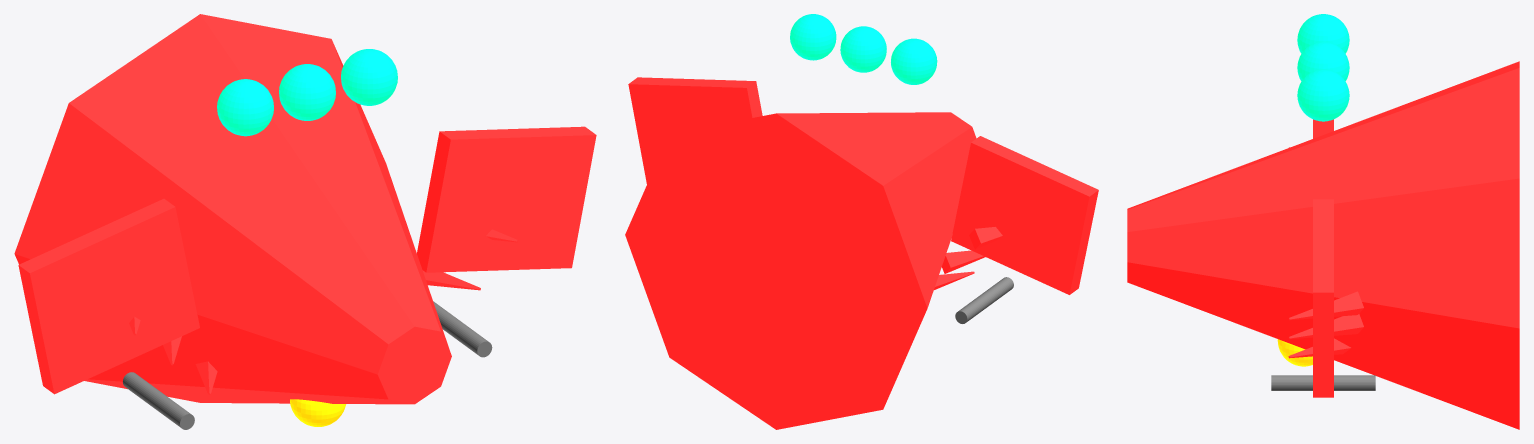
The model's file is boss.glb.
3 views of the same model, side by side, from view 1: azimuth 30°, elevation 25°; view 2: azimuth 150°, elevation 25°; view 3: azimuth 270°, elevation 25° (orthographic). The views are drawn at different scales.
Parts seen in each view (by area): view 1: BossBody, BossWing-1, BossWing1, BossEng-0.5, BossEng0.5, BossEng0, BossGun-1, BossGun1, BossEye, BossSpike11; view 2: BossBody, BossWing-1, BossWing1, BossEng0.5, BossEng0, BossEng-0.5, BossGun-1, BossSpike-11, BossSpike-12; view 3: BossBody, BossWing1, BossEng0.5, BossEng0, BossEng-0.5, BossGun1, BossSpike12, BossSpike11, BossEye.
Part boxes in pixels (x1,y1,x2,y2): BossBody: [14, 14, 451, 404]; BossWing-1: [18, 198, 199, 394]; BossWing1: [417, 126, 596, 272]; BossEng-0.5: [217, 79, 273, 136]; BossEng0.5: [341, 49, 397, 105]; BossEng0: [279, 64, 335, 120]; BossGun-1: [123, 372, 194, 429]; BossGun1: [433, 301, 492, 357]; BossEye: [290, 399, 346, 426]; BossSpike11: [422, 270, 480, 290]; BossBody: [625, 112, 976, 429]; BossWing-1: [951, 136, 1098, 294]; BossWing1: [628, 77, 762, 183]; BossEng0.5: [790, 14, 836, 60]; BossEng0: [840, 26, 886, 72]; BossEng-0.5: [891, 38, 937, 84]; BossGun-1: [955, 277, 1013, 323]; BossSpike-11: [942, 250, 985, 273]; BossSpike-12: [969, 227, 1002, 249]; BossBody: [1127, 61, 1519, 429]; BossWing1: [1313, 199, 1333, 397]; BossEng0.5: [1297, 69, 1349, 121]; BossEng0: [1297, 41, 1349, 81]; BossEng-0.5: [1297, 14, 1349, 53]; BossGun1: [1271, 375, 1375, 390]; BossSpike12: [1288, 291, 1363, 320]; BossSpike11: [1288, 314, 1363, 339]; BossEye: [1277, 339, 1312, 366].
Bounding box in the file's own units: 4.57 × 3.2 × 3.
